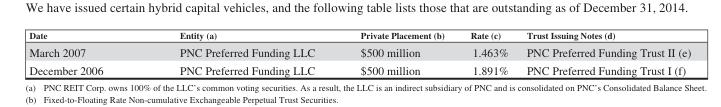table: (28, 29, 690, 76)
table column: (140, 29, 337, 76), (516, 29, 690, 76), (337, 29, 456, 76), (28, 29, 140, 76), (456, 29, 516, 76)
table column header: (28, 29, 690, 42)
table row: (28, 42, 690, 60), (28, 60, 690, 76), (28, 29, 690, 42)
